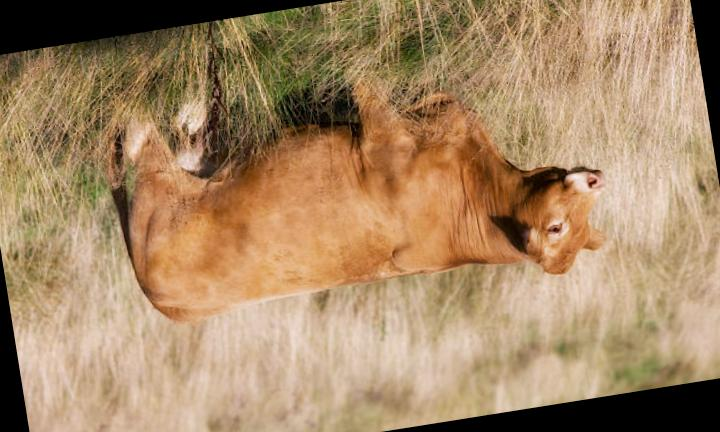Charolais: (108, 86, 605, 321)
